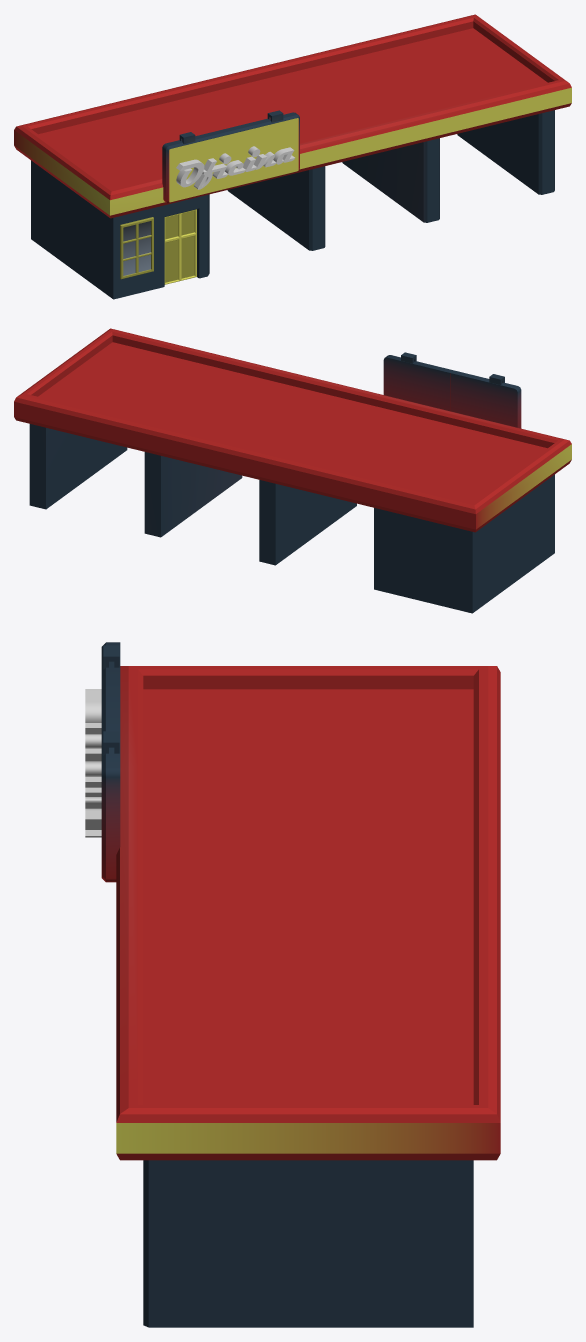
The model's file is Oficina_G.fbx.
The picture shows the model from 3 angles, top to bottom: view 1: azimuth 30°, elevation 25°; view 2: azimuth 150°, elevation 25°; view 3: azimuth 270°, elevation 25°; orthographic projection. The views are drawn at different scales.
Parts seen in each view (by area): view 1: Oficina.G; view 2: Oficina.G; view 3: Oficina.G.
Part boxes in pixels (x1,y1,x2,y2): Oficina.G: (14, 14, 571, 299); Oficina.G: (14, 328, 571, 613); Oficina.G: (85, 642, 500, 1327).
Size of the model in its own units: 2815 by 899 by 1096.
